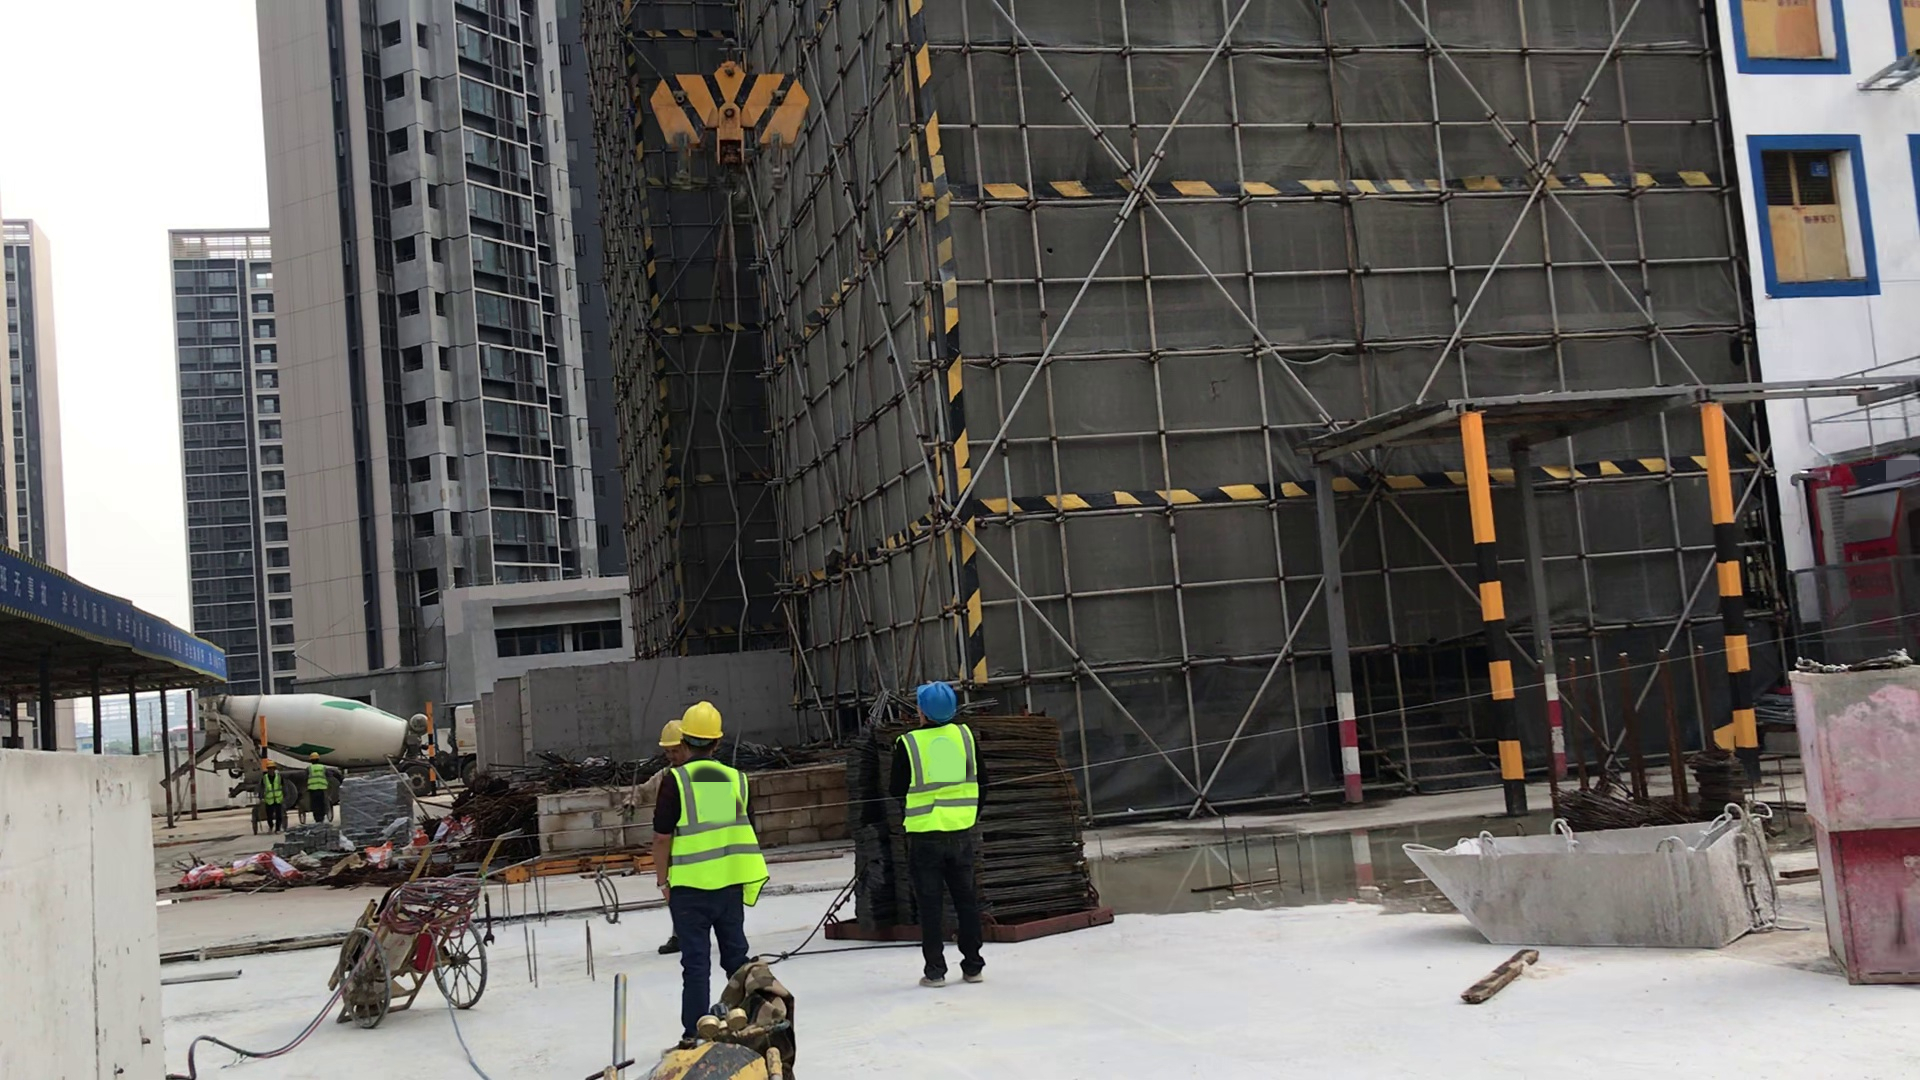handcart: (247, 807, 293, 836), (296, 796, 340, 826)
helmet: (681, 698, 725, 742), (912, 683, 961, 723), (653, 716, 686, 747), (265, 760, 277, 770), (307, 752, 322, 760)
hook: (648, 49, 811, 174)
hopper: (1393, 812, 1787, 956)
person: (871, 679, 1012, 993), (680, 697, 782, 1037), (640, 713, 711, 956), (301, 752, 332, 822), (258, 760, 288, 835)
slogan: (2, 561, 231, 685)
vest: (671, 770, 766, 908), (890, 731, 979, 831), (261, 773, 282, 806), (307, 764, 326, 791)
